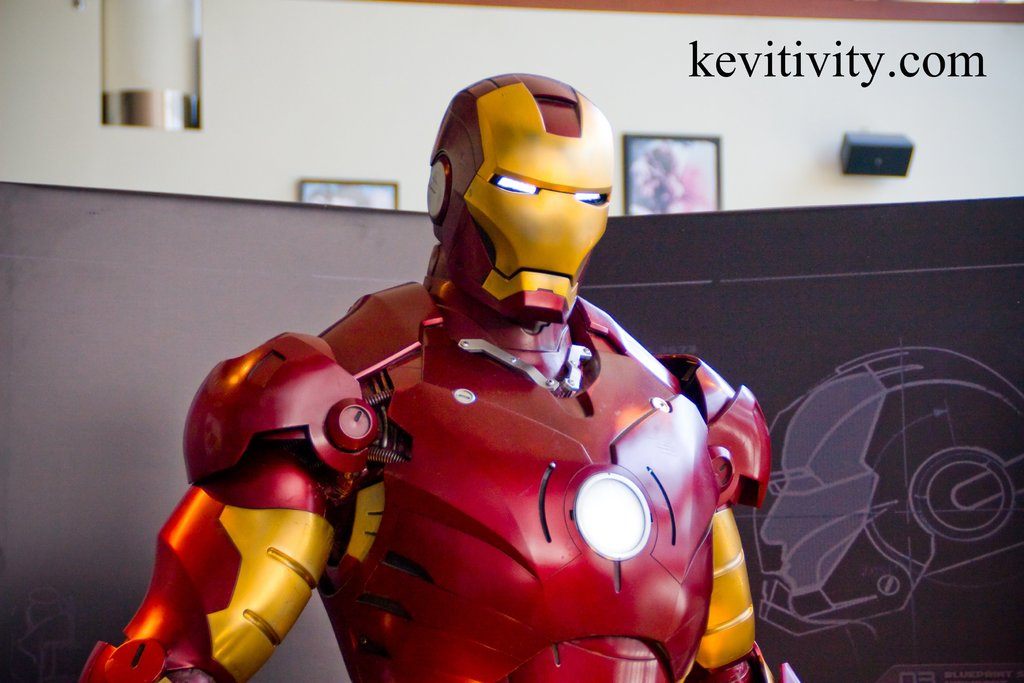Person: (76, 73, 800, 683)
